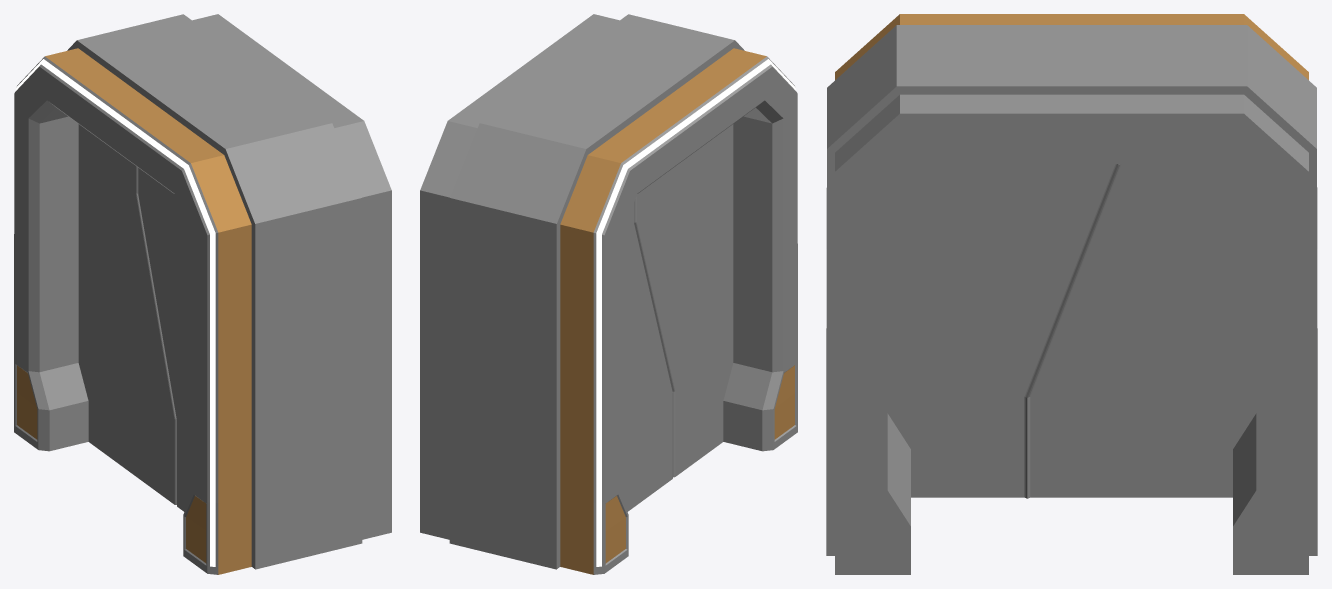
The model's file is Room_ControlRoom_Door.fbx.
3 renders of one model, left to right at view 1: azimuth 30°, elevation 25°; view 2: azimuth 150°, elevation 25°; view 3: azimuth 270°, elevation 25°, orthographic. The views are drawn at different scales.
Visible parts, largest first — view 1: Door; view 2: Door; view 3: Door.
Part boxes in pixels (x1,y1,x2,y2): Door: [14, 14, 391, 574]; Door: [420, 14, 797, 574]; Door: [826, 14, 1317, 574].
Bounding box in the file's own units: 171 × 360 × 342.
